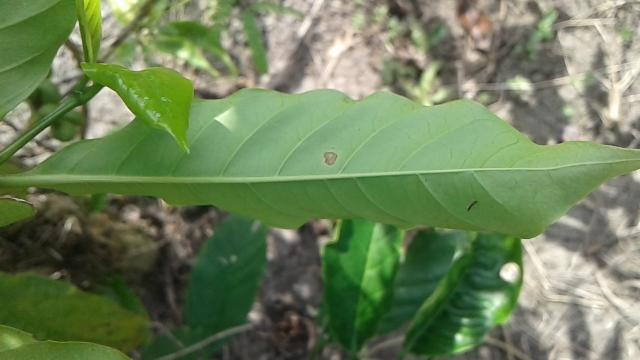rust_level_1: (22, 84, 640, 243)
